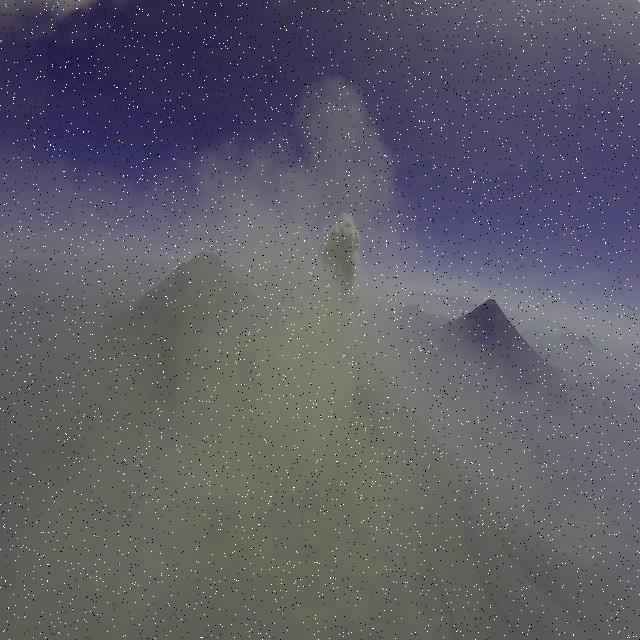Plume: (316, 201, 365, 321)
